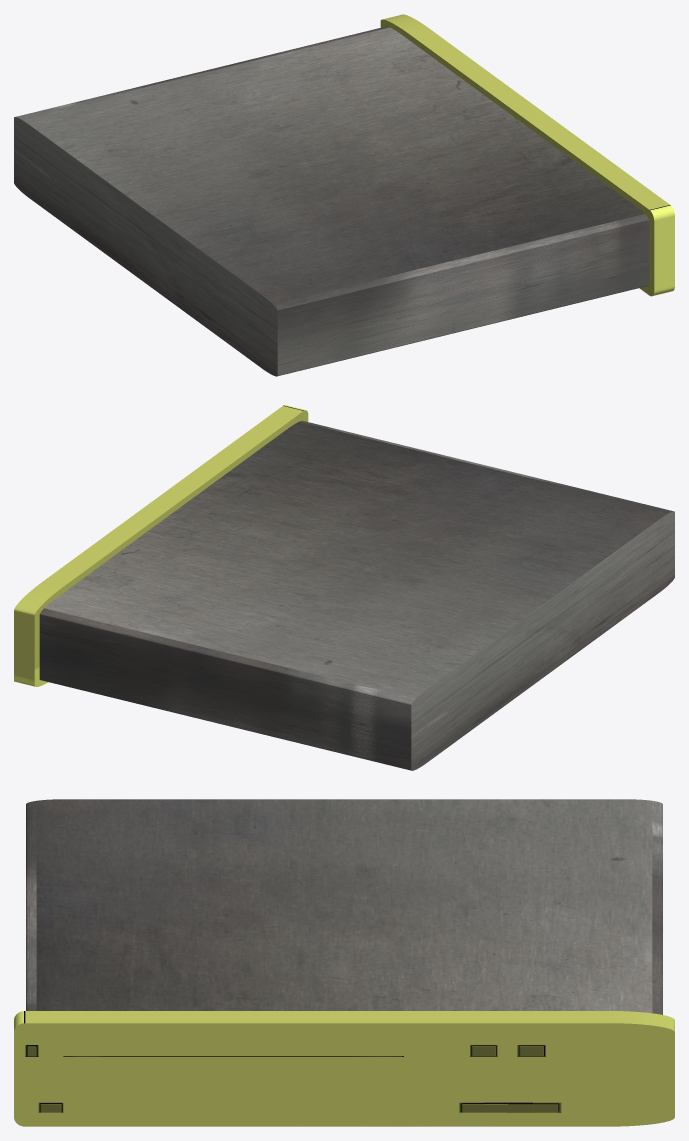
Rendered from dvd player.glb.
3 views of the same model, one above another, from view 1: azimuth 30°, elevation 25°; view 2: azimuth 150°, elevation 25°; view 3: azimuth 270°, elevation 25° (orthographic). The views are drawn at different scales.
Parts seen in each view (by area): view 1: Dvd Player; view 2: Dvd Player; view 3: Dvd Player.
Boxes of the visible parts, x1,y1,x2,y2 form: Dvd Player: (14, 14, 674, 376); Dvd Player: (14, 405, 674, 770); Dvd Player: (14, 799, 674, 1126).
Bounding box in the file's own units: 0.5602 × 0.1251 × 0.674.
3 materials, 3 textured.
